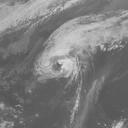cyclone: (32, 47, 84, 84)
